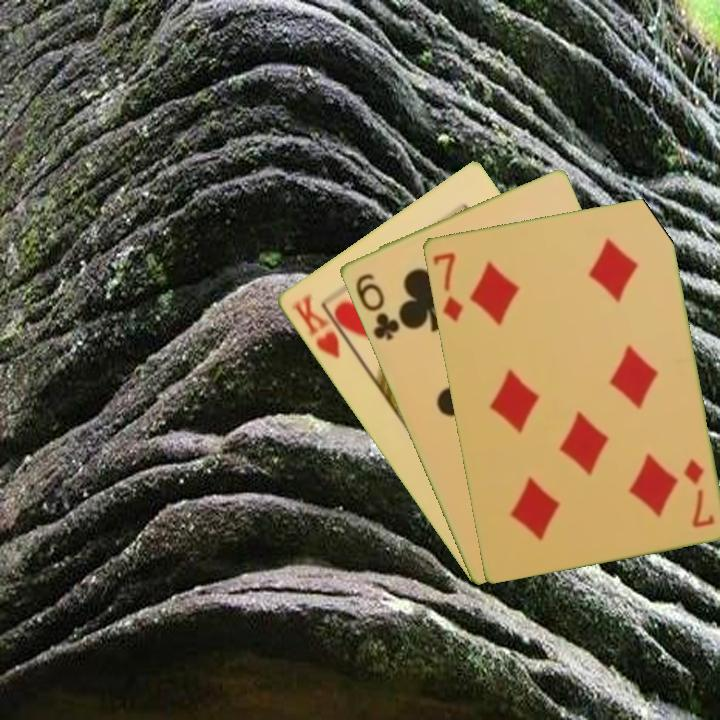6c: (351, 269, 403, 343)
7d: (428, 248, 465, 325), (680, 455, 717, 530)
Kh: (287, 291, 356, 361)
